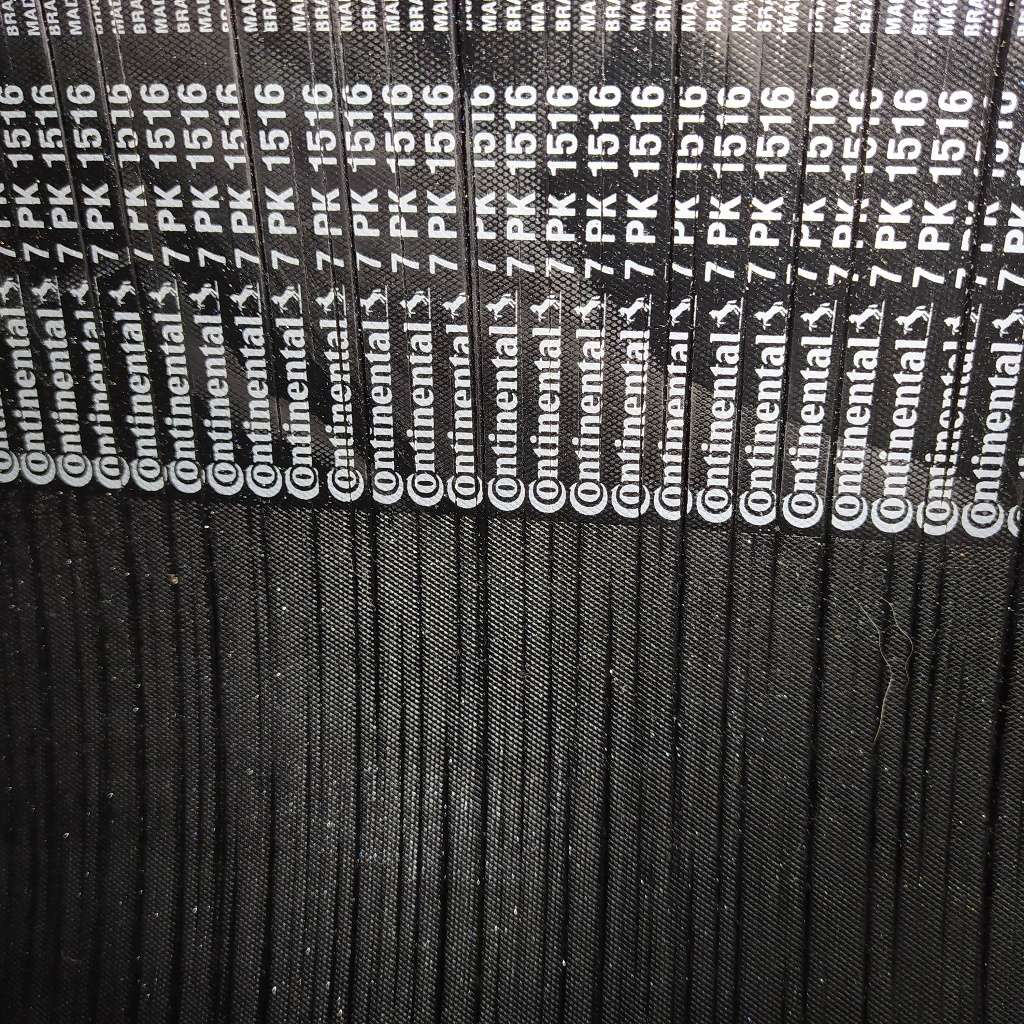friso grande: (590, 668, 616, 1022), (553, 830, 578, 1021), (794, 841, 819, 1021), (470, 817, 489, 1023), (969, 869, 994, 1023), (429, 848, 450, 1022), (798, 709, 823, 845), (258, 847, 278, 1017), (631, 522, 647, 734), (211, 712, 231, 879), (223, 1, 251, 113), (761, 545, 782, 685), (724, 882, 745, 1021), (445, 3, 475, 95), (205, 600, 228, 719), (668, 559, 688, 695), (344, 892, 365, 1019), (535, 869, 552, 1020), (666, 693, 682, 852), (806, 551, 838, 630), (198, 497, 222, 602), (169, 867, 185, 1017), (82, 915, 106, 1015), (475, 687, 493, 820), (90, 813, 113, 916), (568, 575, 584, 722), (33, 651, 59, 741), (885, 892, 906, 1003), (865, 706, 888, 807), (516, 746, 529, 920), (983, 714, 1011, 794), (857, 801, 880, 897), (859, 894, 876, 1023), (712, 733, 735, 828), (134, 654, 148, 806), (674, 455, 693, 563), (449, 96, 479, 164), (324, 915, 343, 1021), (804, 626, 828, 709), (244, 190, 274, 256), (241, 485, 261, 583), (561, 727, 580, 830), (404, 918, 423, 1021), (172, 764, 190, 871), (489, 892, 504, 1020), (224, 878, 238, 1015), (912, 782, 933, 873), (350, 676, 368, 782), (109, 148, 134, 224), (814, 474, 837, 555), (253, 616, 266, 759), (236, 118, 262, 189), (733, 784, 752, 881), (713, 649, 735, 732), (769, 451, 788, 547), (474, 580, 491, 687), (257, 509, 273, 621), (709, 829, 727, 928), (518, 614, 531, 750), (83, 3, 107, 75), (887, 811, 908, 893), (34, 517, 46, 656), (174, 648, 188, 766), (734, 704, 754, 786), (96, 745, 119, 816), (371, 655, 383, 791), (129, 896, 153, 964), (70, 185, 95, 250), (940, 402, 956, 503), (96, 663, 116, 743), (369, 563, 386, 656), (917, 703, 937, 782), (600, 572, 616, 670), (439, 750, 455, 848), (412, 736, 428, 834), (353, 782, 367, 894), (989, 652, 1013, 717), (982, 794, 1002, 871), (539, 776, 555, 872), (997, 1, 1021, 65), (517, 507, 531, 616), (668, 3, 680, 130), (349, 596, 367, 679), (999, 587, 1021, 654), (892, 741, 912, 814), (635, 401, 647, 522), (309, 602, 329, 674), (168, 540, 181, 650), (342, 452, 359, 536), (452, 546, 467, 641), (308, 529, 327, 604), (474, 504, 492, 583), (823, 405, 843, 475), (109, 5, 127, 82), (98, 77, 118, 146), (869, 643, 890, 708), (727, 449, 744, 529), (56, 119, 77, 183), (132, 833, 154, 894), (897, 628, 920, 686), (395, 691, 409, 786), (454, 162, 475, 225), (923, 627, 940, 704), (324, 8, 345, 70), (123, 226, 141, 297), (718, 588, 738, 651), (543, 672, 555, 777), (125, 961, 145, 1023), (388, 935, 402, 1023), (929, 570, 950, 628), (544, 575, 556, 676), (36, 5, 58, 60), (721, 526, 740, 589), (389, 157, 407, 223), (366, 482, 380, 566), (333, 829, 346, 918), (131, 789, 154, 839), (164, 466, 179, 542), (329, 286, 343, 367), (265, 766, 278, 852), (879, 585, 897, 647), (123, 534, 141, 596), (94, 606, 112, 668), (315, 672, 325, 783), (129, 596, 147, 655), (80, 252, 98, 311), (991, 66, 1009, 125), (739, 640, 755, 706), (708, 927, 719, 1023), (412, 835, 424, 923), (416, 649, 428, 736), (355, 346, 374, 400), (906, 568, 922, 632), (414, 575, 427, 653), (350, 535, 366, 598), (335, 130, 353, 186), (255, 260, 274, 313), (45, 58, 61, 120), (329, 74, 347, 128), (772, 401, 791, 452), (726, 404, 747, 450), (460, 229, 477, 284), (968, 224, 983, 286), (899, 685, 915, 743), (853, 157, 869, 215), (919, 465, 933, 531), (471, 433, 484, 504), (863, 52, 878, 113), (677, 401, 693, 458), (981, 127, 1000, 175), (865, 0, 882, 53), (972, 176, 990, 226), (351, 283, 365, 347), (412, 510, 425, 578), (410, 406, 423, 474), (402, 362, 419, 414), (573, 509, 586, 576), (881, 541, 901, 584), (396, 784, 406, 870), (450, 409, 461, 487), (951, 333, 966, 390), (396, 605, 406, 690), (400, 311, 416, 363), (380, 3, 392, 72), (123, 488, 139, 539), (961, 285, 977, 336), (688, 315, 697, 404), (270, 401, 291, 439), (669, 132, 680, 203), (939, 515, 952, 575), (806, 3, 819, 63), (859, 112, 876, 157), (545, 511, 556, 579), (309, 492, 327, 533), (345, 227, 358, 281), (387, 109, 401, 159), (594, 403, 604, 472), (342, 402, 355, 454), (451, 487, 462, 548), (664, 284, 671, 379), (399, 261, 412, 311), (796, 155, 809, 205), (910, 529, 924, 572), (839, 302, 853, 345), (837, 345, 851, 388), (470, 336, 481, 390), (396, 865, 404, 938), (787, 279, 800, 323), (384, 74, 399, 112), (667, 203, 674, 284), (335, 375, 352, 408), (575, 406, 585, 462), (662, 376, 668, 469), (1009, 556, 1024, 592), (342, 186, 356, 224), (849, 214, 860, 262), (466, 288, 477, 335), (693, 234, 699, 318), (805, 65, 816, 110), (802, 106, 812, 155), (794, 202, 805, 246), (362, 403, 372, 451), (790, 240, 801, 282), (547, 403, 553, 474), (847, 260, 857, 302), (396, 222, 407, 260), (783, 354, 793, 394), (472, 404, 483, 437), (786, 321, 796, 355), (835, 387, 847, 414), (472, 392, 484, 414)
friso pequeno: (293, 773, 315, 968), (495, 672, 511, 880), (934, 863, 957, 983), (632, 780, 646, 977), (681, 848, 697, 1020), (285, 134, 307, 221), (642, 876, 655, 1016), (301, 1, 321, 75), (743, 529, 756, 641), (300, 293, 321, 358), (194, 821, 205, 944), (296, 221, 314, 294), (949, 669, 969, 733), (942, 793, 959, 865), (302, 690, 315, 781), (307, 76, 325, 139), (190, 556, 202, 645), (317, 143, 332, 214), (948, 728, 963, 795), (196, 643, 206, 737), (323, 215, 337, 281), (196, 731, 206, 821), (667, 930, 677, 1018), (442, 691, 454, 752), (456, 641, 463, 738), (758, 2, 769, 62), (568, 1, 575, 87), (720, 90, 731, 130), (724, 31, 731, 89), (718, 132, 725, 185), (757, 66, 764, 110)
